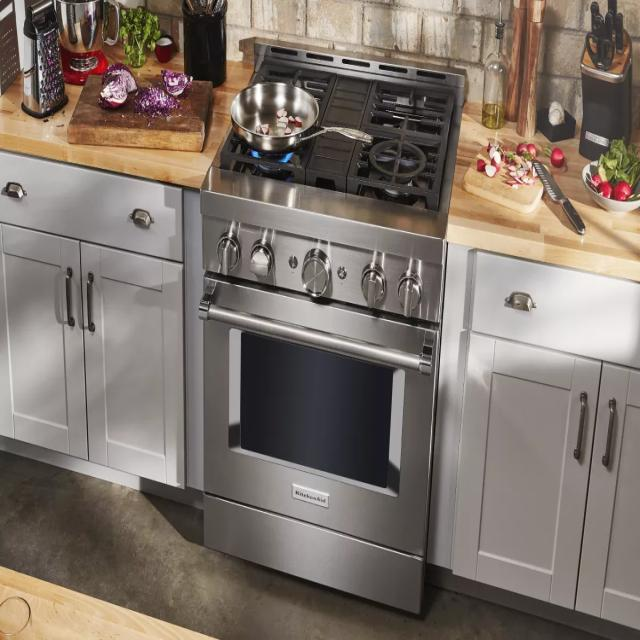knob_OFF: (240, 142, 304, 178)
knob_ON: (353, 125, 449, 207)
